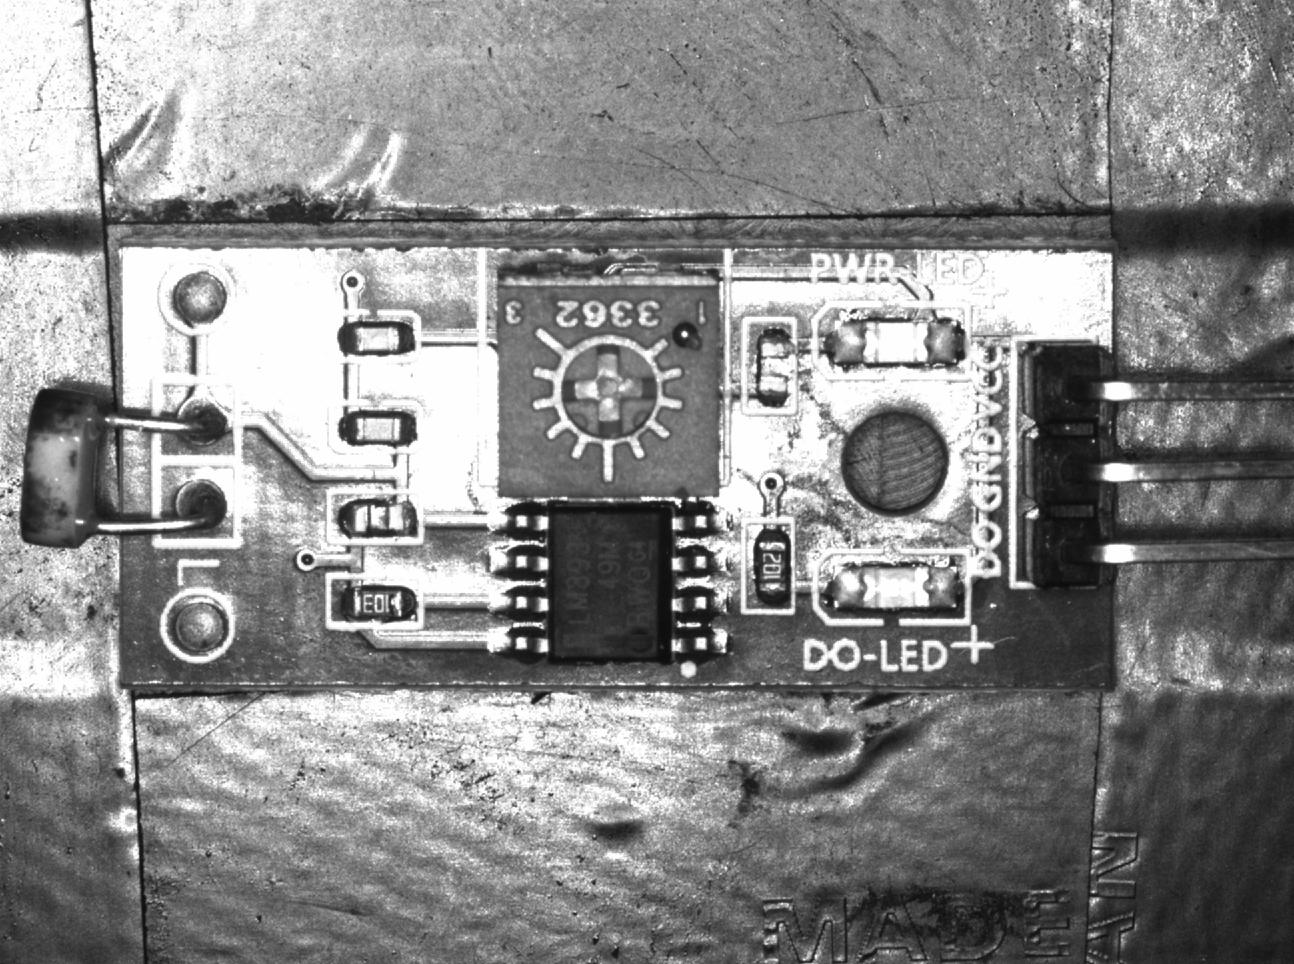miss: (326, 486, 433, 551), (745, 318, 799, 413)
ok: (328, 571, 428, 629), (329, 310, 419, 365), (740, 524, 793, 615), (328, 403, 425, 451)
